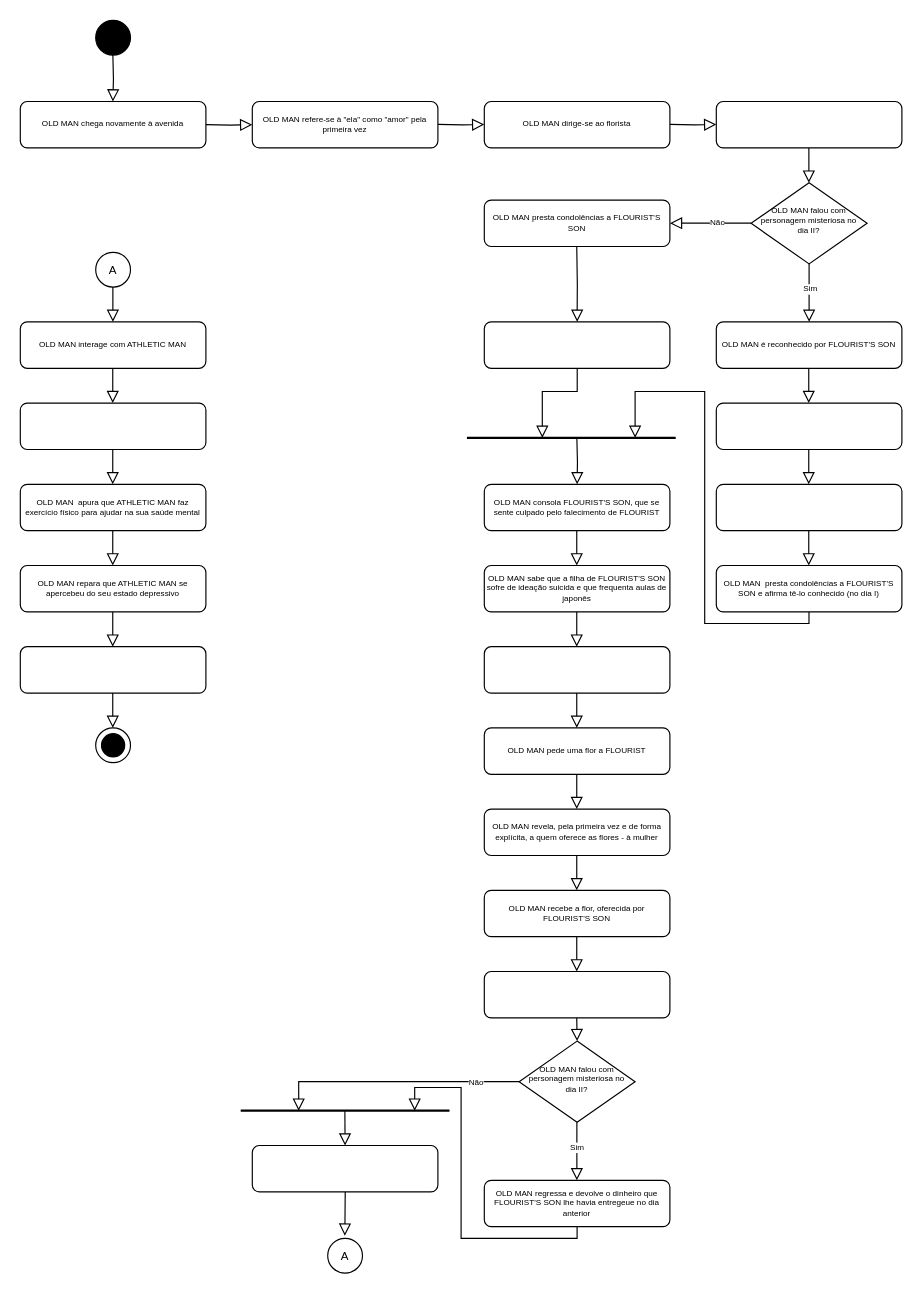
The diagram is 922 pixels wide and 1293 high, and some of its shapes have lost their labels. The centre of each missing label's shape, as x and y in pixels:
OLD MAN descobre que a personagem misteriosa do dia II é FLOURIST'S SON: (808,425)
OLD MAN despede-se de FLOURIST'S SON e abandona a loja: (576,994)
OLD MAN explica a FLOURIST'S SON que conheceu o seu pai (no dia I): (576,344)
OLD MAN explica a FLOURIST'S SON que não é um pedinte: (808,507)
OLD MAN inicia interação com FLOURIST'S SON (florista atual): (808,124)
OLD MAN ouve a sugestão de ATHLETIC MAN em inscrever-se no ginásio: (112,669)
OLD MAN procura ajuda para atravessar: (344,1168)
OLD MAN volta a consolar FLOURIST'S SON por sentir-se incapaz de cuidar da filha: (576,669)
OLD MAN é ajudado por ATHLETIC MAN a atravessar a estrada (e a colocar a flor): (112,425)
